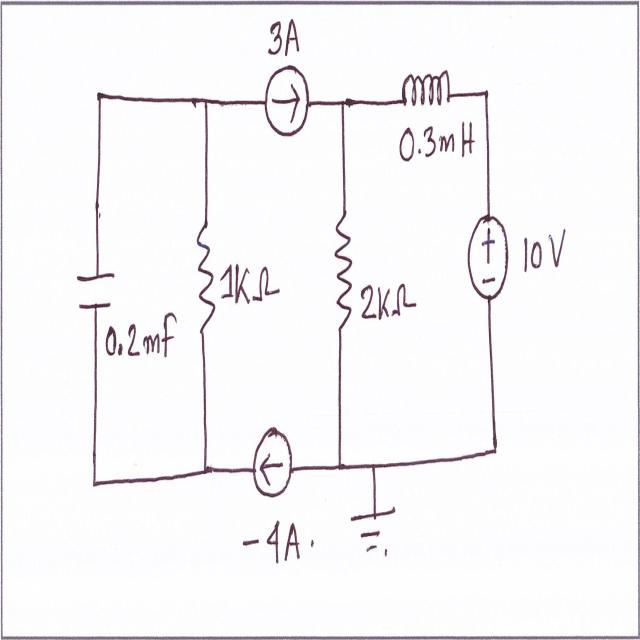capacitor: (73, 266, 122, 318)
current_source: (260, 59, 316, 148), (253, 416, 296, 502)
ground: (349, 507, 404, 569)
inductor: (400, 68, 456, 120)
resistor: (328, 200, 360, 342), (189, 216, 219, 334)
voltage_source: (464, 216, 511, 308)
